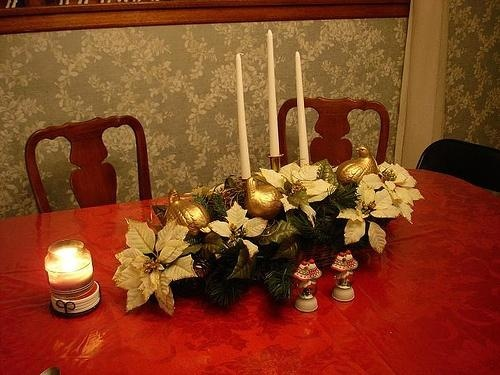chair: (22, 114, 156, 213), (270, 95, 394, 177), (414, 136, 500, 199)
diningtable: (5, 169, 500, 375)
